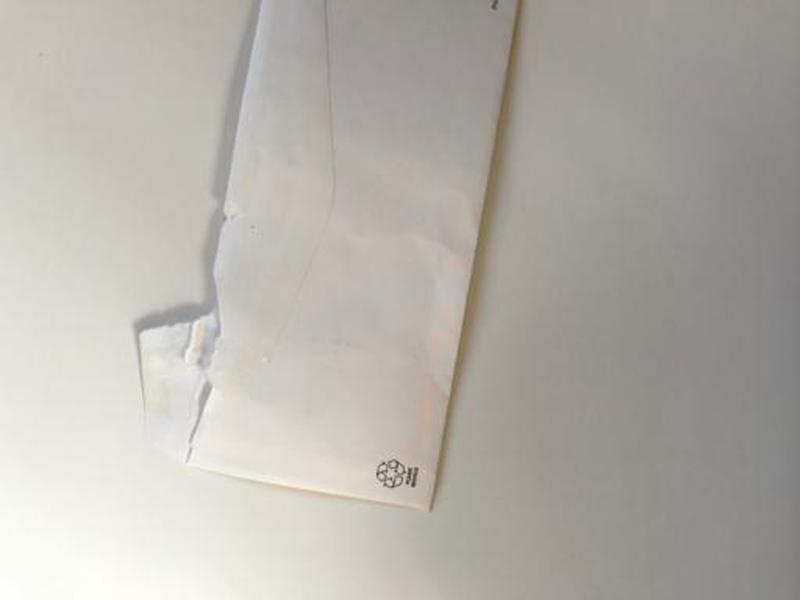paper: (127, 1, 528, 524)
